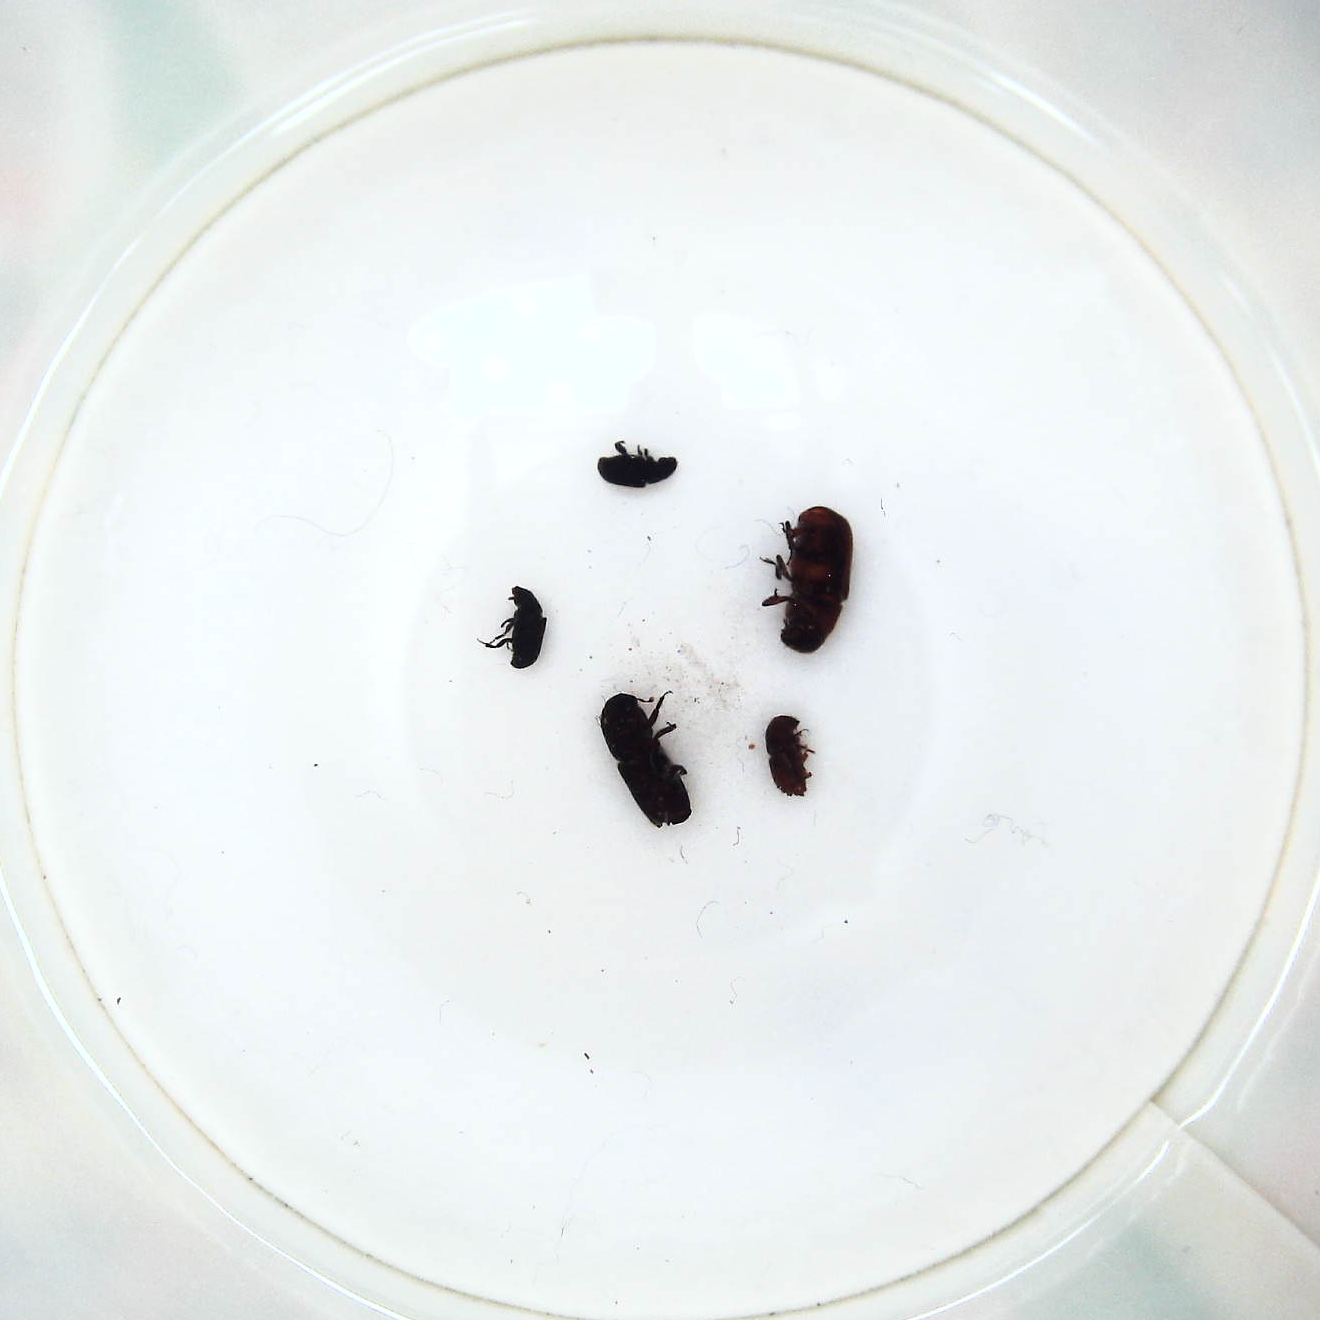Boerner: (595, 690, 695, 834)
Leconte: (762, 506, 858, 658)
armandi: (595, 439, 683, 490)
coleoptera: (484, 583, 549, 676)
linnaeus: (758, 712, 824, 801)
